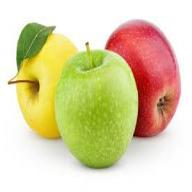apple: (106, 19, 183, 140), (58, 51, 137, 164), (18, 30, 82, 136)
